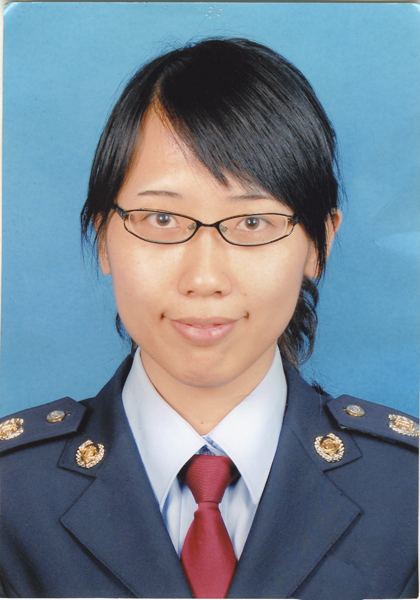unmask: (116, 167, 307, 370)
